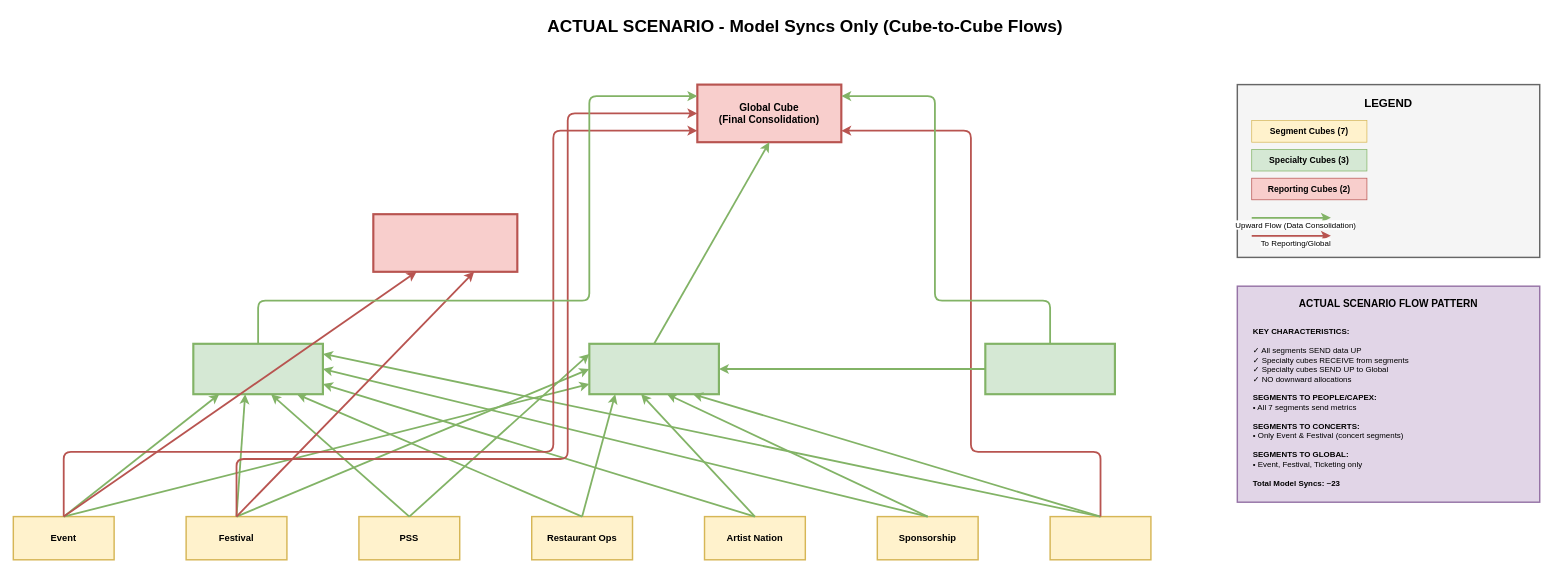
Image size: 1552x572. Some labels were removed from this diagram. The shapes that lost their labels are listed below. From the top down, each one's centre as x and y in pixels, then its label:
pixel 445 243: Concerts Cube (Concert Aggregation)
pixel 258 368: People Cube (Headcount Metrics)
pixel 654 368: Capex Cube (Capex Metrics)
pixel 1050 368: Rollforward Cube (PPM Data)
pixel 1100 538: Ticketing
